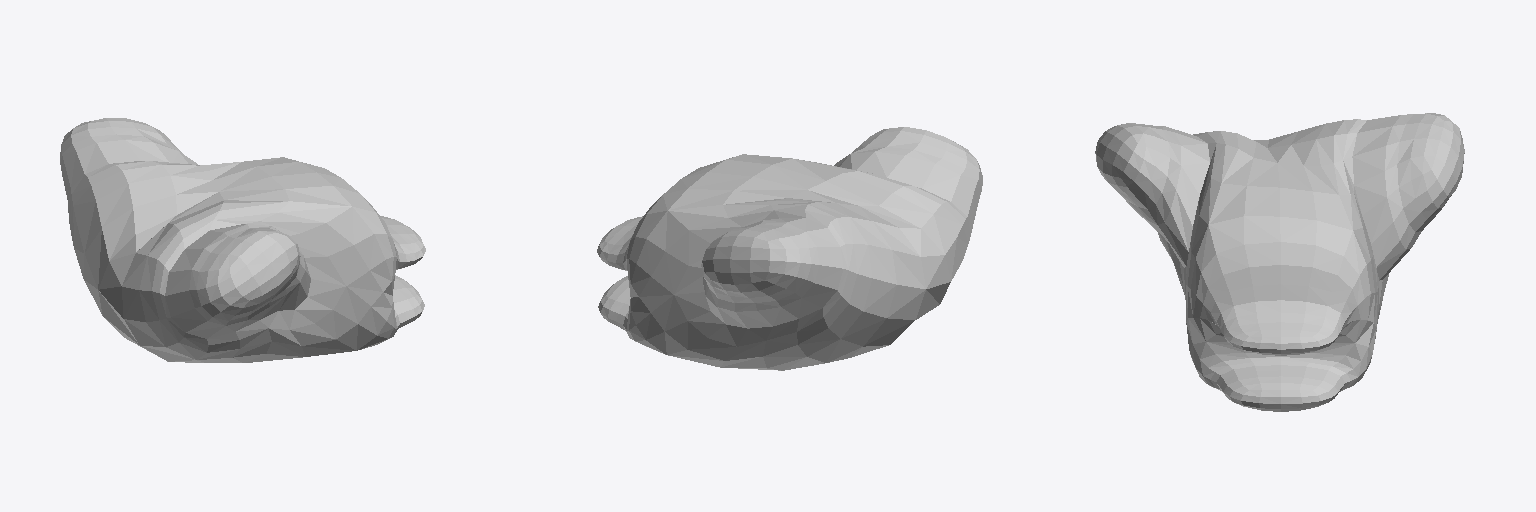
Rendered from bird1.obj.
3 renders of one model, left to right at view 1: azimuth 30°, elevation 25°; view 2: azimuth 150°, elevation 25°; view 3: azimuth 270°, elevation 25°, orthographic.
Visible parts, largest first — view 1: Cube; view 2: Cube; view 3: Cube.
Part boxes in pixels (x1,y1,x2,y2): Cube: (60,118,425,362); Cube: (597,127,982,370); Cube: (1095,113,1464,411).
Size of the model in its own units: 3.54 by 2.08 by 3.59.